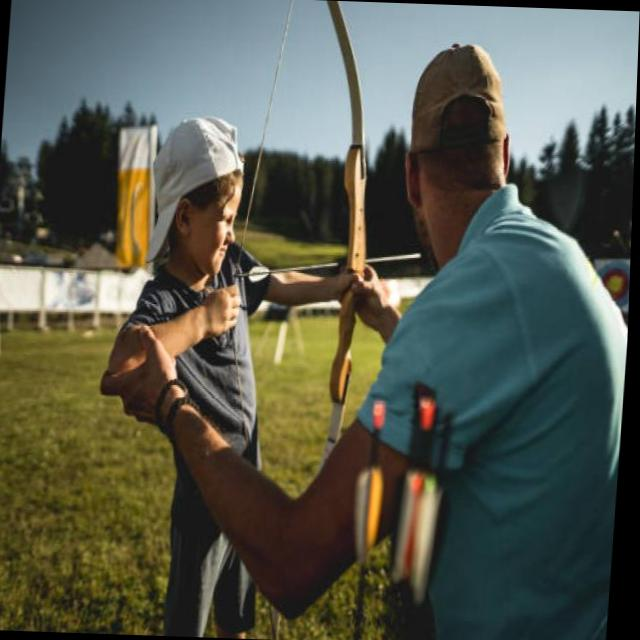no helmet: (384, 32, 523, 250)
